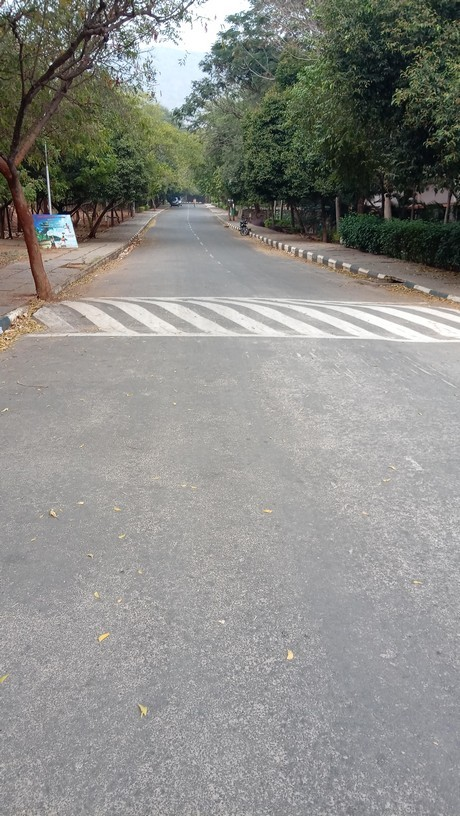bump: (24, 297, 460, 339)
